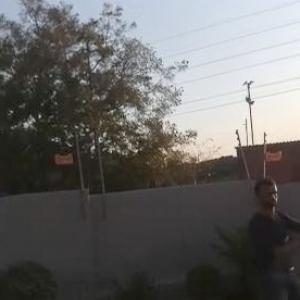follow: (242, 172, 300, 299)
